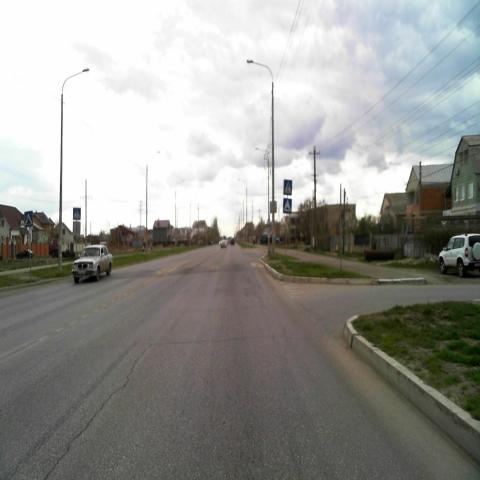5_19_1: (284, 179, 292, 195), (73, 207, 81, 220)
5_20: (284, 198, 292, 213)
